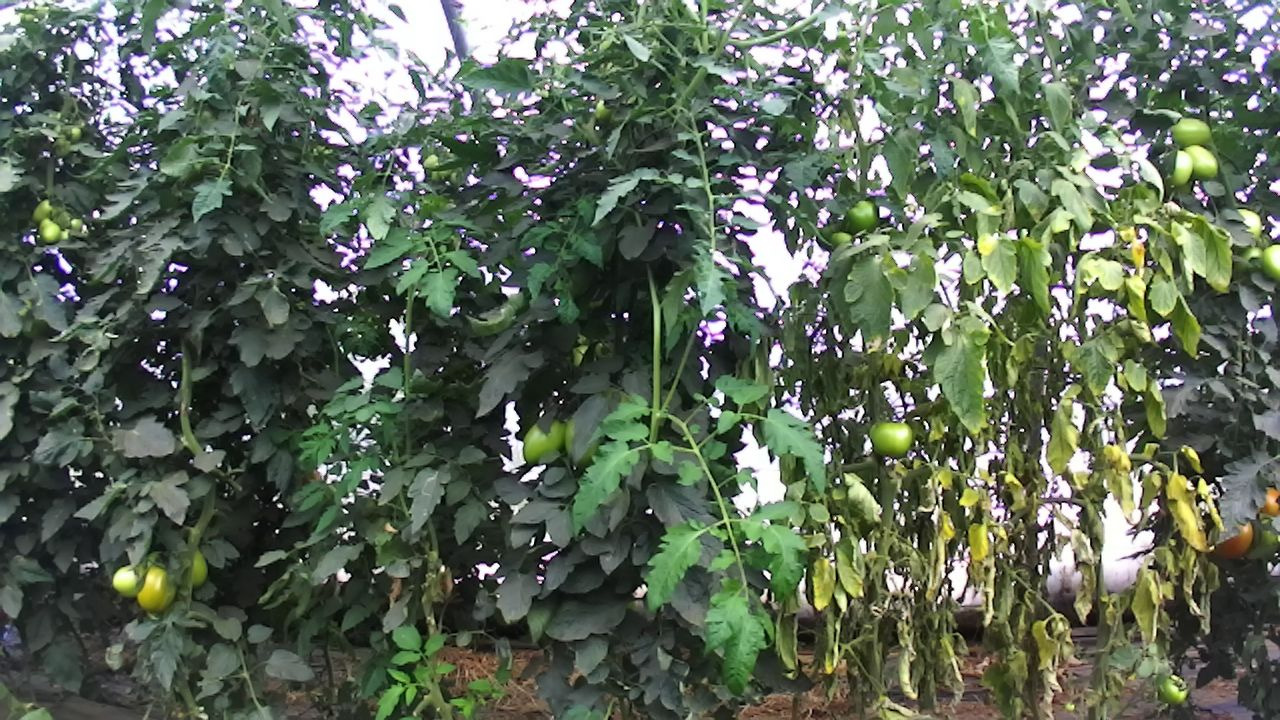tomato: (136, 551, 178, 613), (521, 417, 567, 469), (868, 418, 914, 458), (1179, 143, 1220, 183), (1169, 115, 1211, 149), (110, 560, 143, 601), (1158, 672, 1193, 709), (844, 196, 879, 233), (1260, 240, 1280, 284), (38, 218, 62, 245)
